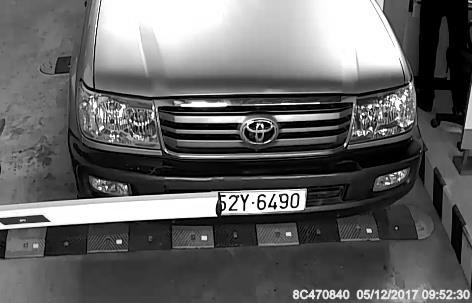License-plate: (199, 186, 317, 221)
